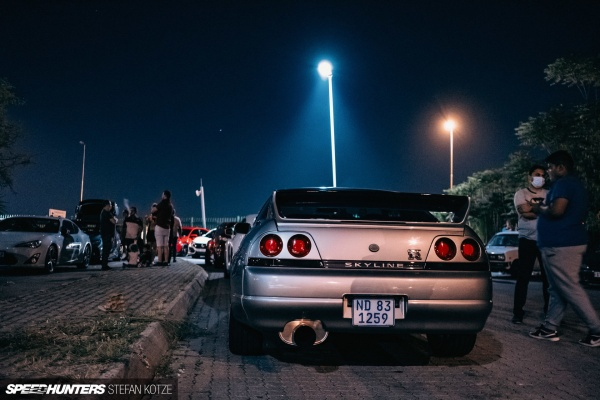licence: (352, 297, 395, 328)
